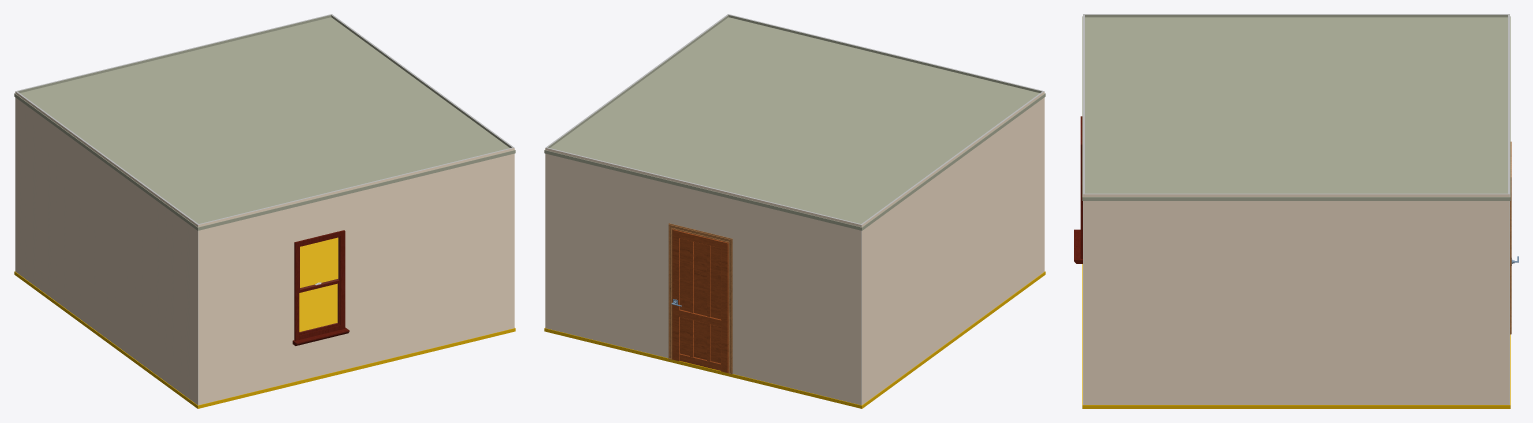
The model's file is ProcTHOR-Train-29.glb.
The picture shows the model from 3 angles, left to right: view 1: azimuth 30°, elevation 25°; view 2: azimuth 150°, elevation 25°; view 3: azimuth 270°, elevation 25°; orthographic projection. The views are drawn at different scales.
Parts seen in each view (by area): view 1: Ceiling#room|2|c, WallInside#wall|exterior|0.00|5.13|5.13|5.13, WallInside#wall|exterior|5.13|0.00|5.13|5.13, Floor#room|2|f, Window_Hung_32x60, WallInside#wall|2|0.00|0.00|5.13|0.00, WallInside#wall|2|0.00|0.00|0.00|5.13; view 2: Ceiling#room|2|c, WallInside#wall|exterior|0.00|0.00|5.13|0.00, WallInside#wall|exterior|5.13|0.00|5.13|5.13, Doorway_10, Floor#room|2|f, WallInside#wall|2|0.00|5.13|5.13|5.13, WallInside#wall|2|0.00|0.00|0.00|5.13; view 3: WallInside#wall|exterior|0.00|0.00|0.00|5.13, Ceiling#room|2|c, Floor#room|2|f, WallInside#wall|2|5.13|0.00|5.13|5.13, Window_Hung_32x60, WallInside#wall|2|0.00|0.00|0.00|5.13, WallInside#wall|exterior|5.13|0.00|5.13|5.13, Doorway_10.
Part boxes in pixels (x1,y1,x2,y2): Ceiling#room|2|c: [14, 17, 515, 230]; WallInside#wall|exterior|0.00|5.13|5.13|5.13: [198, 147, 514, 405]; WallInside#wall|exterior|5.13|0.00|5.13|5.13: [15, 91, 197, 404]; Floor#room|2|f: [14, 237, 515, 408]; Window_Hung_32x60: [292, 230, 349, 345]; WallInside#wall|2|0.00|0.00|5.13|0.00: [16, 14, 331, 92]; WallInside#wall|2|0.00|0.00|0.00|5.13: [331, 14, 512, 147]; Ceiling#room|2|c: [544, 17, 1045, 230]; WallInside#wall|exterior|0.00|0.00|5.13|0.00: [545, 147, 861, 405]; WallInside#wall|exterior|5.13|0.00|5.13|5.13: [861, 91, 1044, 404]; Doorway_10: [668, 223, 732, 374]; Floor#room|2|f: [544, 271, 1045, 408]; WallInside#wall|2|0.00|5.13|5.13|5.13: [728, 14, 1042, 92]; WallInside#wall|2|0.00|0.00|0.00|5.13: [547, 14, 728, 147]; WallInside#wall|exterior|0.00|0.00|0.00|5.13: [1083, 194, 1509, 404]; Ceiling#room|2|c: [1082, 16, 1510, 200]; Floor#room|2|f: [1082, 264, 1510, 408]; WallInside#wall|2|5.13|0.00|5.13|5.13: [1083, 14, 1509, 17]; Window_Hung_32x60: [1074, 116, 1082, 263]; WallInside#wall|2|0.00|0.00|0.00|5.13: [1085, 193, 1507, 193]; WallInside#wall|exterior|5.13|0.00|5.13|5.13: [1085, 14, 1507, 14]; Doorway_10: [1510, 141, 1518, 334].
Size of what is drawn, in the model's own units: 5.17 by 2.86 by 5.38.
80 materials, 25 textured.
